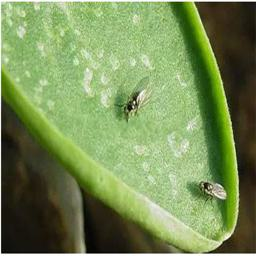liriomyza: (120, 79, 151, 122), (197, 180, 228, 204)
